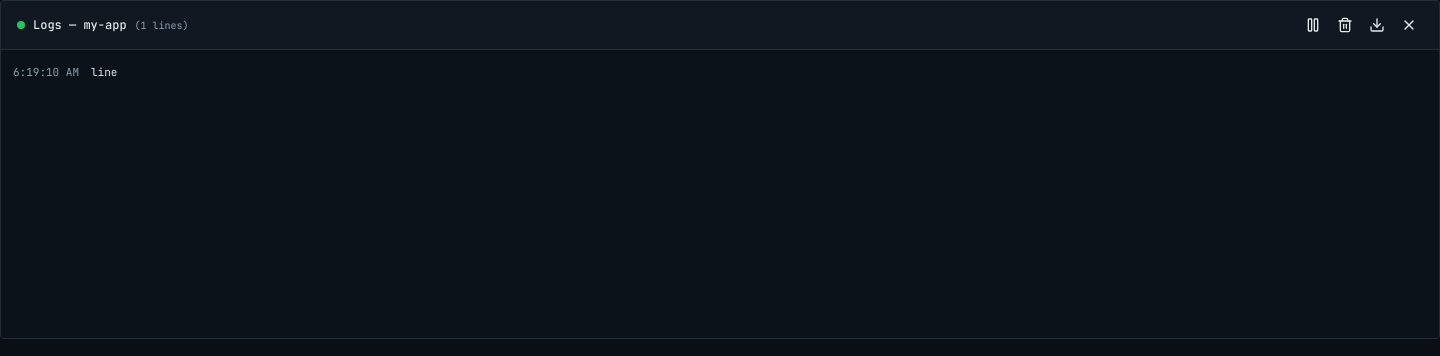
it: ContainerLogs › clears logs when clear button clicked
Click the button titled "Clear" at (1345, 25), box [1331,11,1359,39]
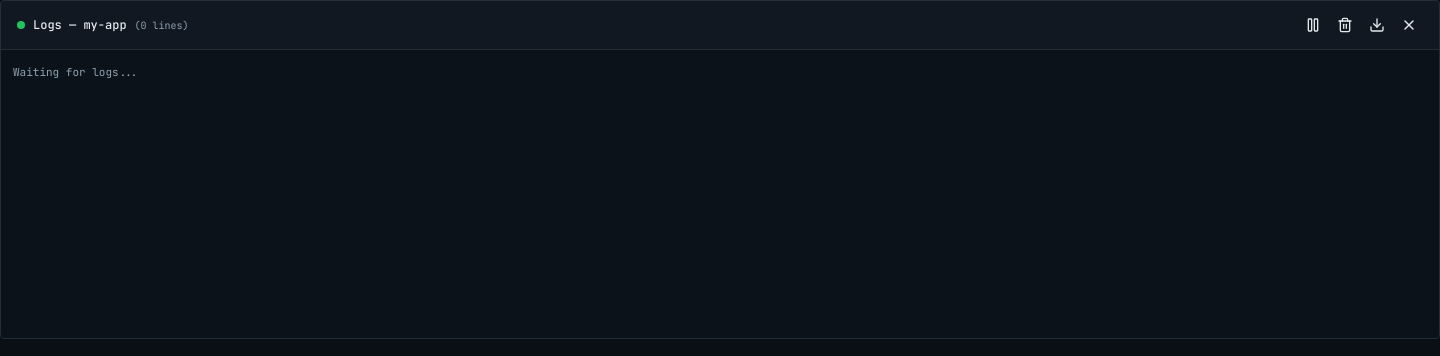
Expected: the text "Waiting for logs..." is shown, [13,65,138,79]
